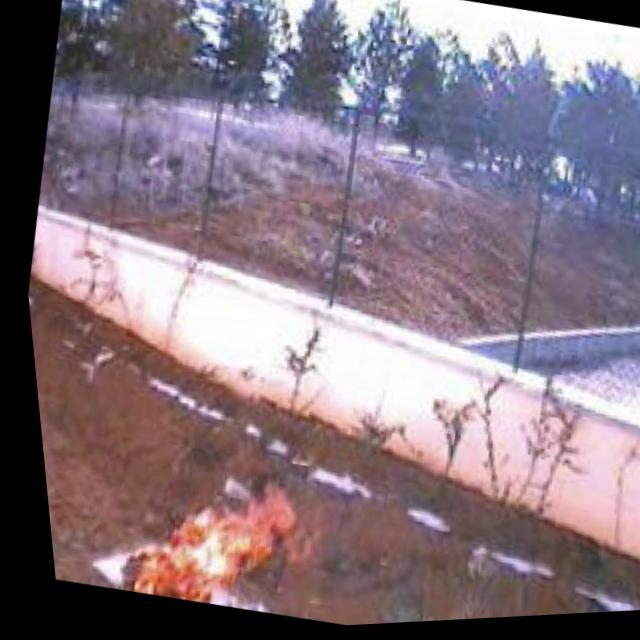Fire: (88, 448, 321, 629)
